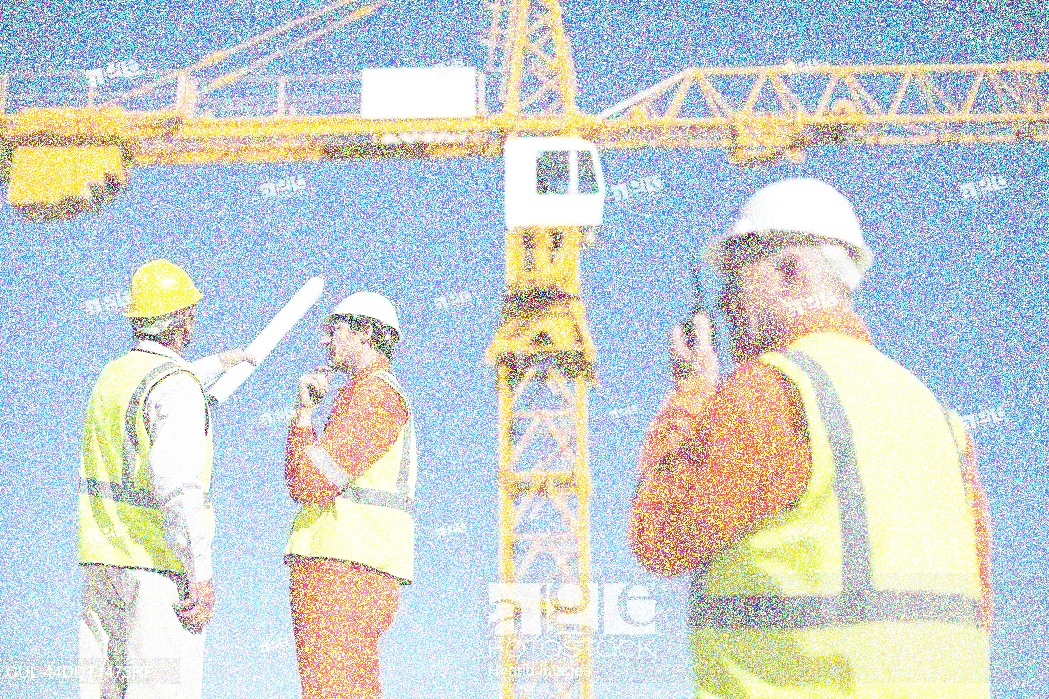helmet: (698, 172, 881, 351), (119, 255, 209, 349), (316, 285, 403, 378)
vest: (634, 330, 1001, 699), (74, 339, 219, 578), (281, 366, 422, 590)
